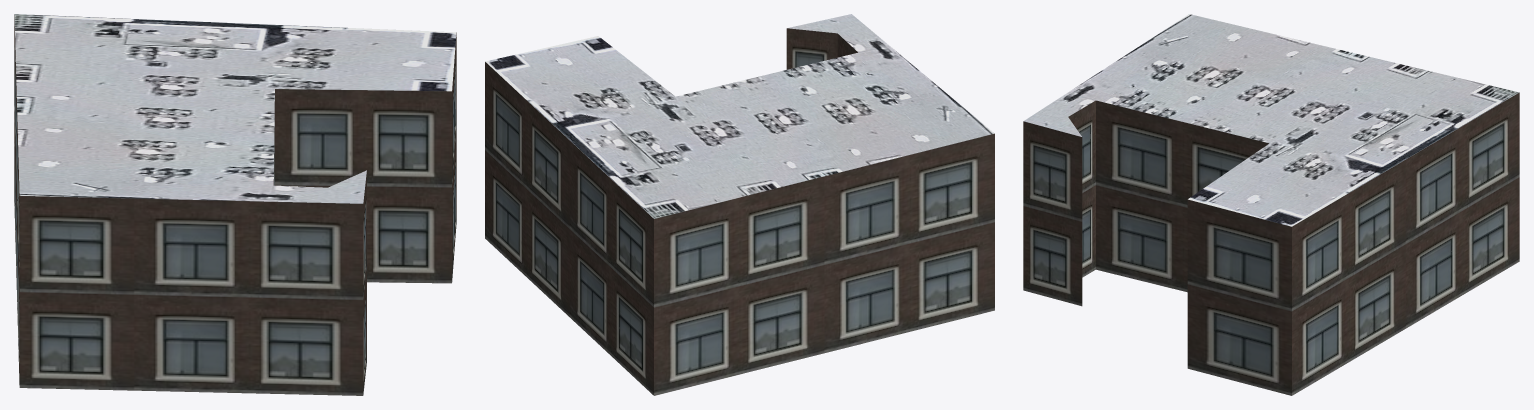
File: ResTex__4430.fbx
3 views of the same model, side by side, from view 1: azimuth 30°, elevation 25°; view 2: azimuth 150°, elevation 25°; view 3: azimuth 270°, elevation 25° (orthographic). The views are drawn at different scales.
Visible parts, largest first — view 1: CityEngineMaterial_16_m, CityEngineMaterial_15_m; view 2: CityEngineMaterial_16_m, CityEngineMaterial_15_m; view 3: CityEngineMaterial_16_m, CityEngineMaterial_15_m.
Boxes of the visible parts, <box> form: CityEngineMaterial_16_m: <box>14,14,456,395</box>; CityEngineMaterial_15_m: <box>14,14,456,203</box>; CityEngineMaterial_16_m: <box>485,28,994,395</box>; CityEngineMaterial_15_m: <box>485,14,994,218</box>; CityEngineMaterial_16_m: <box>1023,92,1519,395</box>; CityEngineMaterial_15_m: <box>1024,14,1518,226</box>.
Size of the model in its own units: 16.18 by 6 by 15.94.
2 materials, 2 textured.
